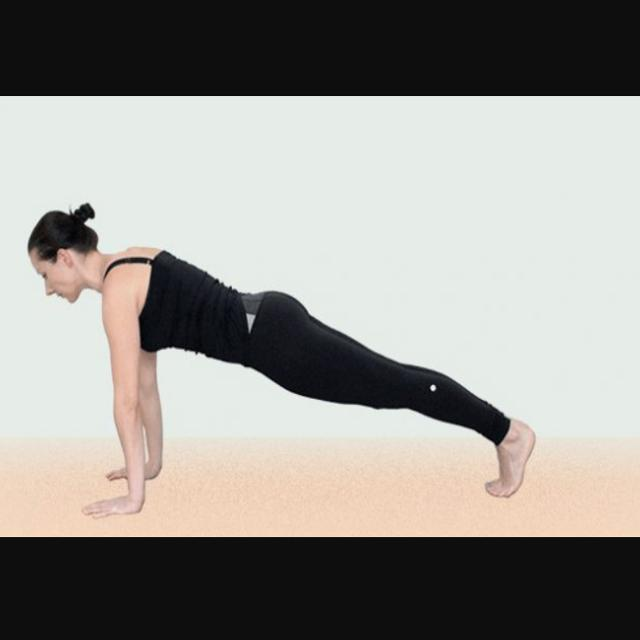Plank_Pose: (26, 200, 540, 525)
